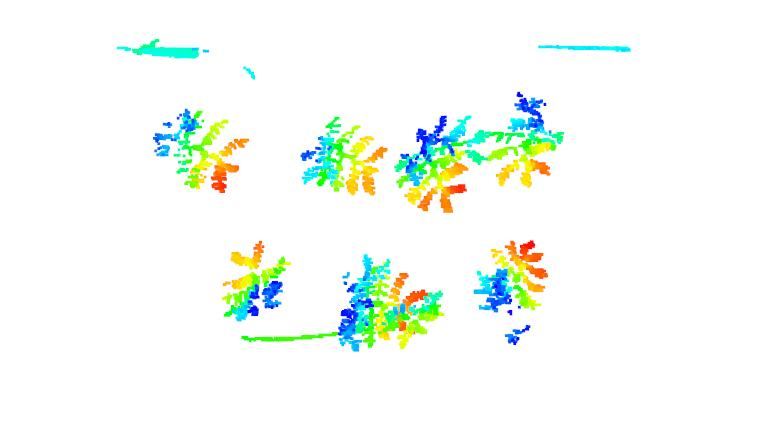chickpea: (338, 255, 445, 350), (394, 113, 491, 217), (152, 109, 250, 196), (487, 91, 566, 189), (299, 117, 388, 197), (470, 239, 549, 315), (220, 240, 287, 323)
